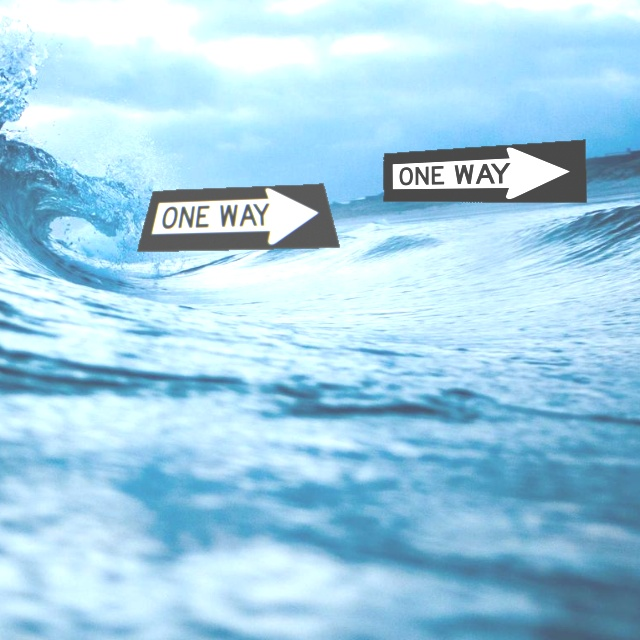ONE_WAY_ right: (136, 183, 340, 252), (383, 139, 587, 203)
